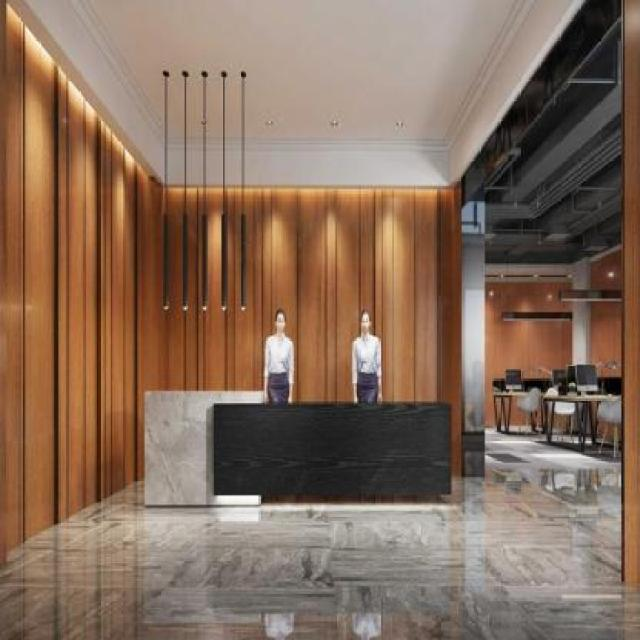frontdesk: (140, 378, 455, 521)
